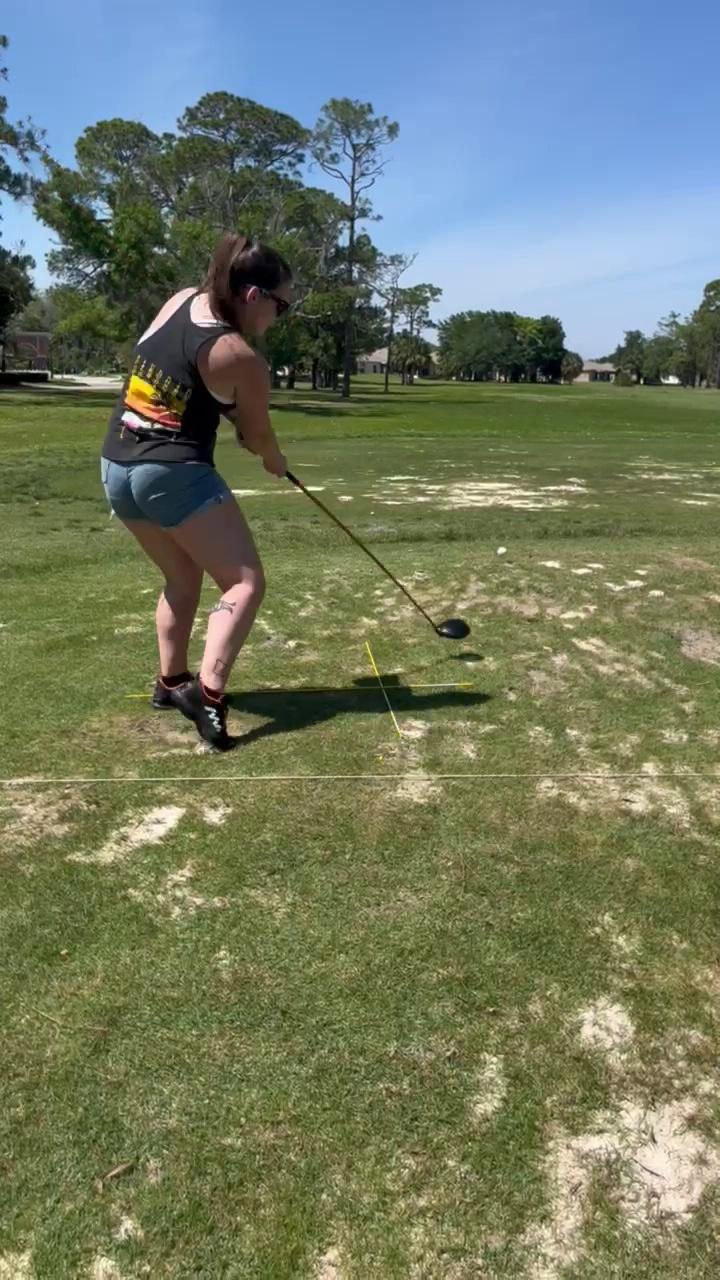ClubHead: (432, 608, 474, 649)
GolfBall: (496, 542, 509, 561)
